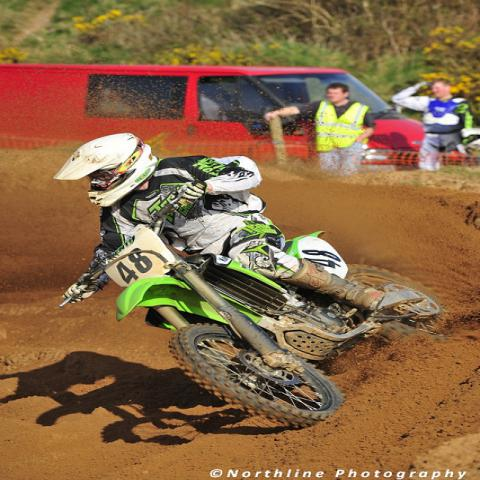car: (7, 66, 429, 160)
motorcycle: (50, 186, 466, 431)
truck: (2, 63, 423, 167)
